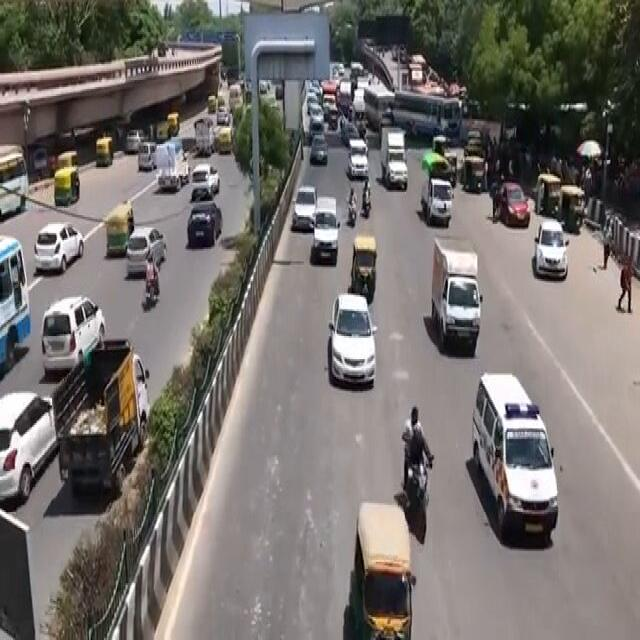three_wheeler: (347, 233, 379, 302)
